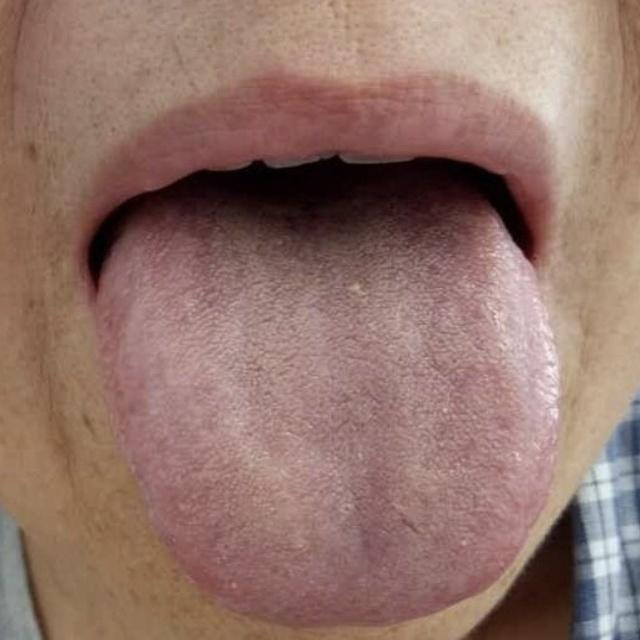baitaishe: (99, 204, 560, 627)
